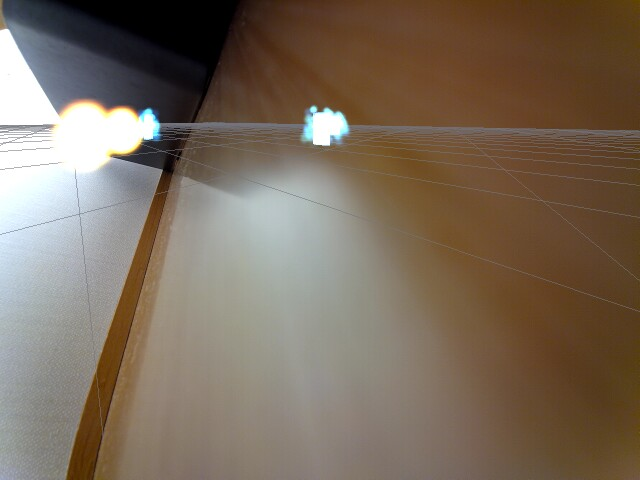firebig: (48, 97, 111, 176)
